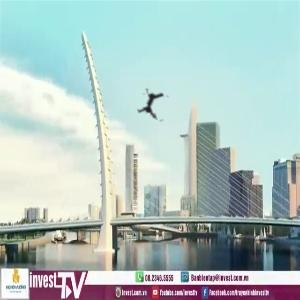drone: (118, 68, 188, 138)
